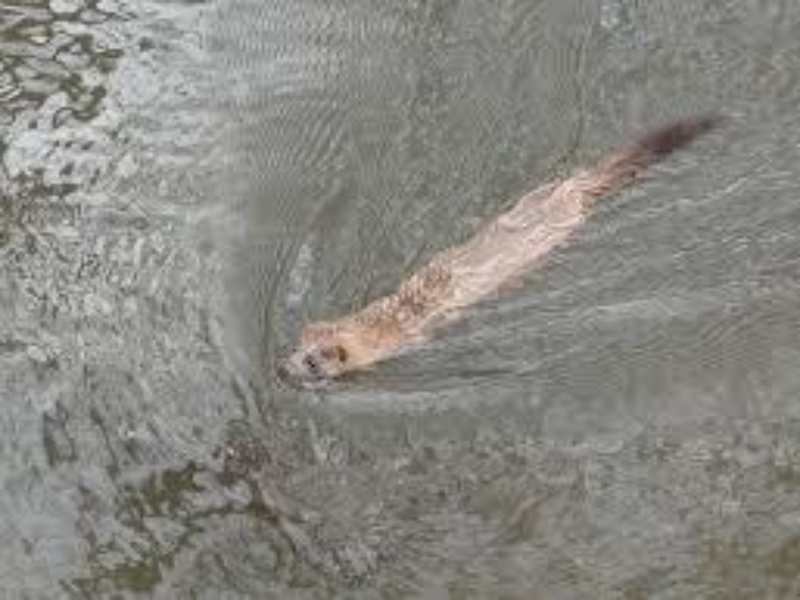minkish: (281, 111, 722, 384)
